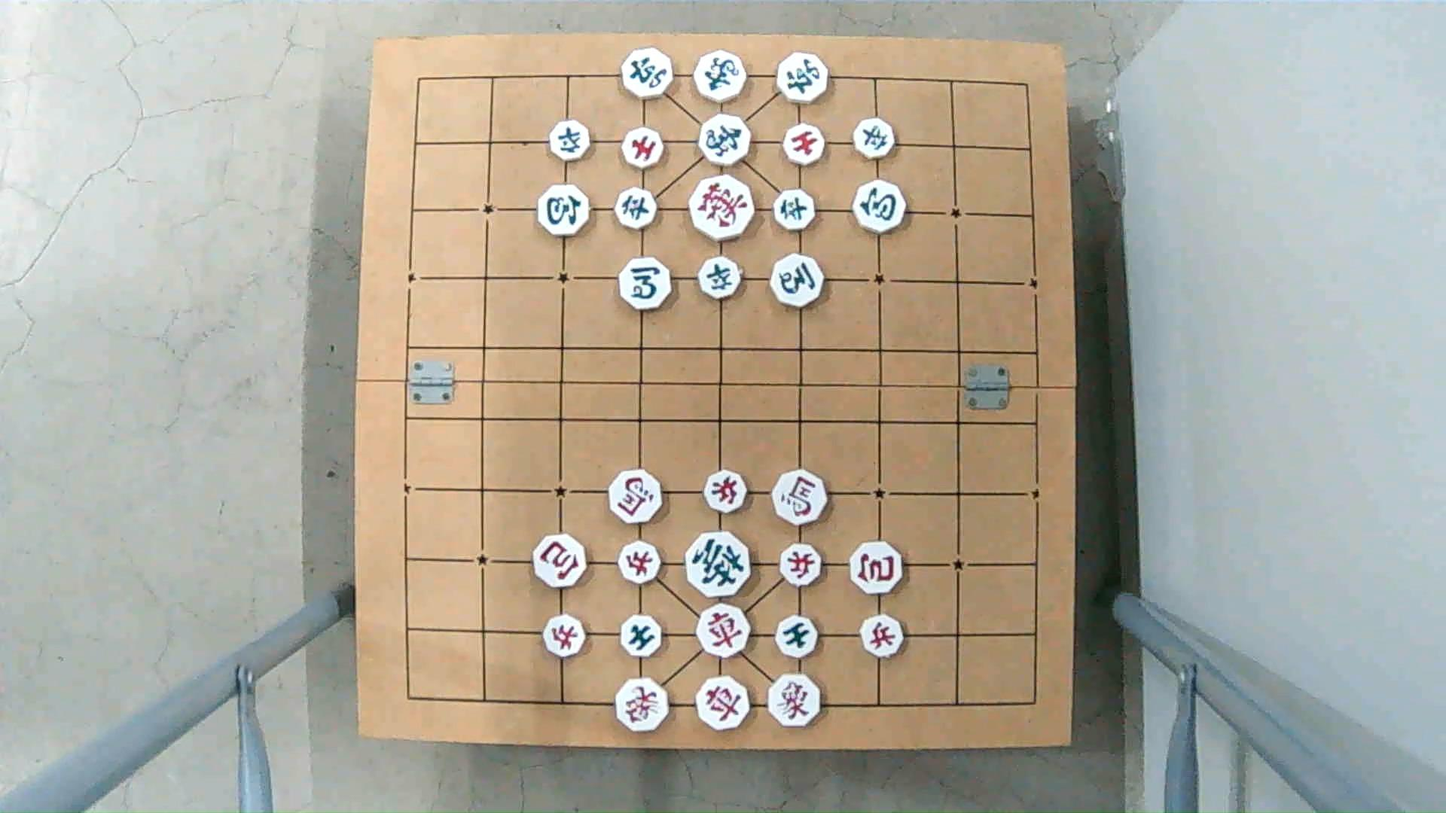cha_green: (616, 47, 676, 99), (773, 53, 831, 103)
cha_red: (694, 607, 755, 656), (694, 678, 752, 728)
jol_green: (694, 256, 743, 299), (613, 190, 663, 230), (773, 188, 816, 229), (546, 123, 593, 160), (854, 121, 896, 158)
jol_red: (615, 540, 666, 583), (703, 468, 748, 516), (779, 544, 823, 591), (856, 617, 905, 656), (541, 617, 588, 655)
ma_green: (769, 256, 827, 306), (618, 261, 674, 308)
ma_red: (772, 470, 829, 526), (608, 471, 664, 519)
po_green: (853, 180, 910, 235), (534, 185, 590, 233)
po_red: (849, 544, 903, 592), (534, 537, 586, 584)
sa_green: (773, 614, 821, 657), (617, 617, 665, 656)
sa_red: (621, 126, 667, 172), (781, 126, 825, 164)
sang_green: (689, 50, 750, 102), (697, 117, 756, 164)
sang_red: (767, 674, 821, 729), (614, 680, 670, 729)
wang_green: (687, 536, 752, 595)
wang_red: (686, 176, 758, 239)
